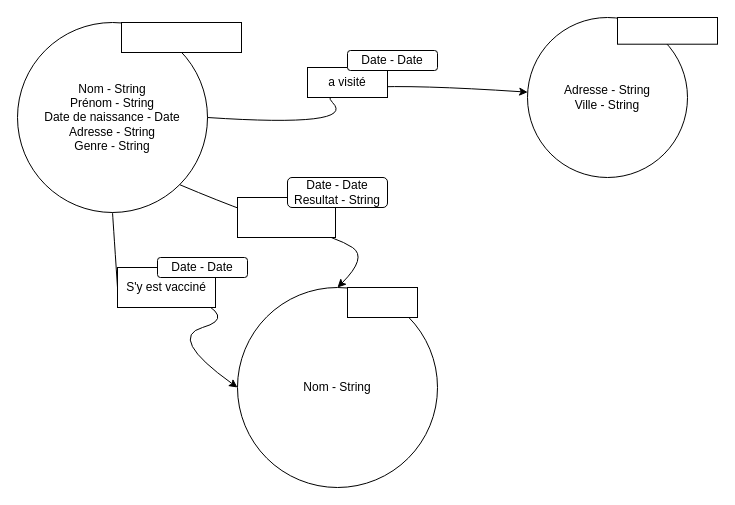
Some shapes in this 735 by 505 pixel diagram are drawn without their labels. The centre of each missing label's shape, as x and y in pixels:
Centre: pixel 382 302
Lieu: pixel 667 30
Personne: pixel 181 37
S'y est testé: pixel 286 217
